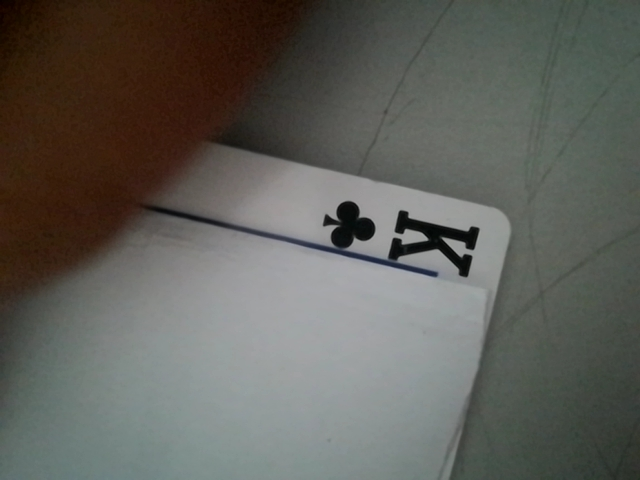mh k: (308, 189, 491, 280)
